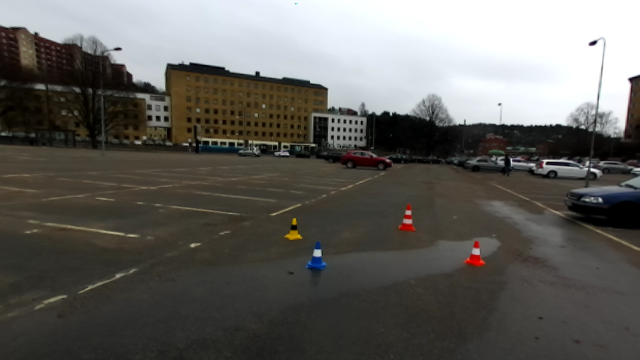blue: (306, 240, 328, 269)
orange: (462, 239, 486, 267)
orange2: (397, 200, 419, 234)
yellow: (282, 216, 303, 243)
